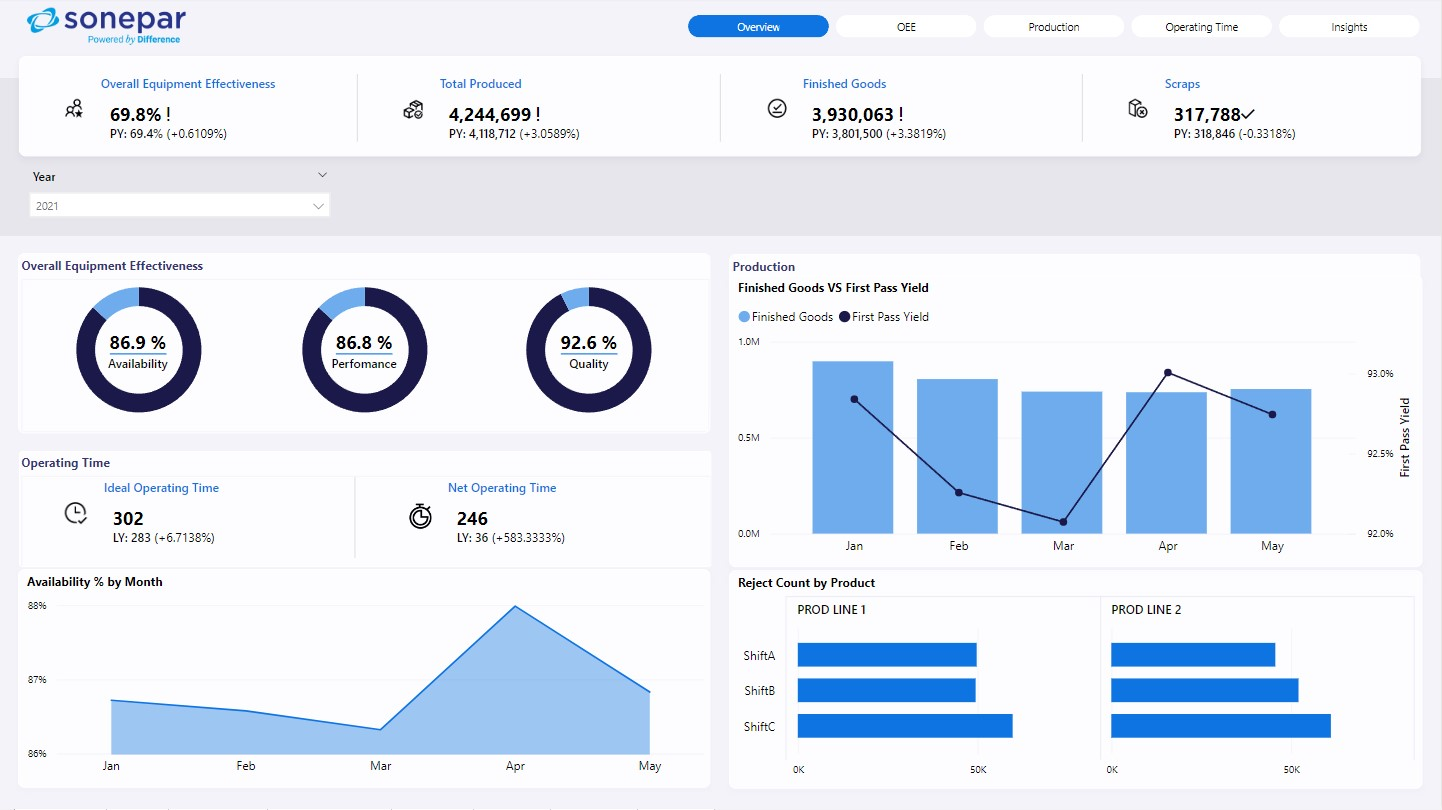

This screenshot's page, from the dashboard's own definition file:
{"tool":"powerbi","page":{"name":"Overview","canvas":[1280,720],"ordinal":0},"visuals":[{"type":"shape","box":[932.6,69,57.5,60.4],"z":0,"group":"g2"},{"type":"actionButton","title":"Background","box":[0,71.7,1280,140.4],"z":0,"group":"g1"},{"type":"slicer","fields":{"Values":["Dim_Date.Year"]},"box":[17.7,146,287,60],"z":0,"group":"g7"},{"type":"actionButton","title":"Overall Equipment Effectiveness","box":[18,227,614,160],"z":0,"group":"g6"},{"type":"actionButton","title":"Operating Time","box":[18.3,402.9,613.5,103],"z":0,"group":"g4"},{"type":"shape","box":[288.4,426.3,56.6,71.6],"z":0,"group":"g5"},{"type":"actionButton","title":"Background KPI","box":[18.4,52.7,1243.1,88.9],"z":1000,"group":"g8"},{"type":"shape","box":[611.1,69,57.5,60.4],"z":1000,"group":"g2"},{"type":"group","id":"g1","title":"Elements","box":[0,71.7,1280,140.4],"z":1000},{"type":"image","box":[54.5,440,30.3,35.8],"z":1000,"group":"g4"},{"type":"barChart","title":"Reject Count by Product","fields":{"Category":["Dim_Shift.Shift","Dim_Product.ArticleCode"],"Rows":["Dim_ProductionLine.Line"],"Y":["Fact_Production.Reject Count"]},"box":[648.3,507.9,615,193.5],"z":1000,"group":"g3"},{"type":"group","id":"g2","title":"Lines","box":[289.5,69,700.6,60.4],"z":1500,"group":"g8"},{"type":"shape","box":[289.5,69,57.5,60.4],"z":2000,"group":"g2"},{"type":"image","title":"4","box":[997.4,85.8,27,27],"z":2000,"group":"g8"},{"type":"group","id":"g3","title":"Production","box":[648,227.8,615.3,473.6],"z":2000},{"type":"actionButton","title":"Production","box":[648.3,227.8,613,160.3],"z":2000,"group":"g3"},{"type":"textbox","title":"Dona - Quality","box":[437.5,289.9,173.5,67.1],"z":2000,"group":"g6"},{"type":"image","box":[357.8,439.1,33.1,41.7],"z":2000,"group":"g4"},{"type":"image","title":"3","box":[677.2,85.7,27,27],"z":3000,"group":"g8"},{"type":"lineStackedColumnComboChart","title":"Finished Goods VS First Pass Yield","fields":{"Category":["Dim_Date.Month"],"Y2":["Fact_Production.Quality%"],"Y":["Fact_Production.Good Count"]},"box":[648,246.6,615,259],"z":3000,"group":"g3"},{"type":"group","id":"g4","title":"Operating Time","box":[17.7,402.9,614.2,298.5],"z":3000},{"type":"group","id":"g5","title":"Lines","box":[288.4,426.3,56.6,71.6],"z":3000,"group":"g4"},{"type":"image","title":"2","box":[354.5,86,27,27],"z":4000,"group":"g8"},{"type":"group","id":"g6","title":"OEE","box":[18,227,614,160.3],"z":4000},{"type":"donutChart","title":"Quality % ","fields":{"Y":["Fact_Production.Quality%","Fact_Production.%Quality Rest"]},"box":[438.7,238.6,171.8,148.8],"z":4000,"group":"g6"},{"type":"areaChart","fields":{"Category":["Dim_Date.Month"],"Y":["Fact_Production.Availability%"]},"box":[17.7,507.8,614,193.5],"z":4000,"group":"g4"},{"type":"textbox","title":"Dona - Performance","box":[237.5,289.9,174,66.2],"z":4500,"group":"g6"},{"type":"kpi","title":"Net Operating Time","fields":{"Indicator":["Fact_Production.NetdayNo"],"TrendLine":["Fact_Production.Brand"],"Goal":["Fact_Production.LostdayNo"]},"box":[393.9,426.5,224.3,69.8],"z":4500,"group":"g4"},{"type":"image","title":"1","box":[54,85.8,27,27],"z":5000,"group":"g8"},{"type":"group","id":"g7","title":"Slicers","box":[17.7,146,287,60],"z":5000},{"type":"donutChart","title":"Performance %","fields":{"Y":["Fact_Production.Performance%","Fact_Production.%Performance Rest"]},"box":[239.4,238.6,171.8,148.8],"z":5000,"group":"g6"},{"type":"kpi","title":"Ideal Operating Time","fields":{"Indicator":["Fact_Production.dayNo1"],"TrendLine":["Fact_Production.Brand"],"Goal":["Fact_Production.RealdayNo"]},"box":[88.3,426.5,217,72.5],"z":5000,"group":"g4"},{"type":"group","id":"g8","title":"KPI","box":[18.4,52.7,1243.1,88.9],"z":6000},{"type":"kpi","title":"Scraps","fields":{"Indicator":["Fact_Production.Reject Count"],"Goal":["Fact_Production.PY Reject Count"],"TrendLine":["Fact_Production.Brand"]},"box":[1029,68.4,230,60],"z":6000,"group":"g8"},{"type":"textbox","title":"Dona - Availability %","box":[37.5,289.9,173.5,62.6],"z":6000,"group":"g6"},{"type":"donutChart","title":"Availability % ","fields":{"Y":["Fact_Production.Availability%","Fact_Production.%Avaiability Rest"]},"box":[39.3,238.5,171.8,148.8],"z":6500,"group":"g6"},{"type":"pageNavigator","box":[612,15.9,651,20.9],"z":7000},{"type":"kpi","title":"Finished Goods","fields":{"Indicator":["Fact_Production.Good Count"],"Goal":["Fact_Production.PY Good Count"],"TrendLine":["Fact_Production.Brand"]},"box":[708.2,68.3,245,60],"z":7000,"group":"g8"},{"type":"image","box":[17.7,4.4,156.9,43.4],"z":7001},{"type":"kpi","title":"Total Produced","fields":{"Indicator":["Fact_Production.Total Count"],"Goal":["Fact_Production.PY Total Count"],"TrendLine":["Fact_Production.Brand"]},"box":[386,68.4,245,60],"z":8000,"group":"g8"},{"type":"kpi","title":"Overall Equipment Effectiveness","fields":{"TrendLine":["Fact_Production.Brand"],"Goal":["Fact_Production.PY OEE%"],"Indicator":["Fact_Production.OEE%"]},"box":[85.4,68.4,230,60],"z":9000,"group":"g8"}]}

Visuals, with their boxes on the page's 1280x720 design canvas (x1, y1, x2, y2). These are canvas units, not pixel positions in the 1442x810 screenshot, which may show the page scaled, cropped or inside an application window:
shape: 933, 69, 990, 129
"Background" actionButton: 0, 72, 1280, 212
slicer - Dim_Date.Year: 18, 146, 305, 206
"Overall Equipment Effectiveness" actionButton: 18, 227, 632, 387
"Operating Time" actionButton: 18, 403, 632, 506
shape: 288, 426, 345, 498
"Background KPI" actionButton: 18, 53, 1262, 142
shape: 611, 69, 669, 129
"Elements" group: 0, 72, 1280, 212
image: 54, 440, 85, 476
"Reject Count by Product" barChart: 648, 508, 1263, 701
"Lines" group: 290, 69, 990, 129
shape: 290, 69, 347, 129
"4" image: 997, 86, 1024, 113
"Production" group: 648, 228, 1263, 701
"Production" actionButton: 648, 228, 1261, 388
"Dona - Quality" textbox: 438, 290, 611, 357
image: 358, 439, 391, 481
"3" image: 677, 86, 704, 113
"Finished Goods VS First Pass Yield" lineStackedColumnComboChart: 648, 247, 1263, 506
"Operating Time" group: 18, 403, 632, 701
"Lines" group: 288, 426, 345, 498
"2" image: 354, 86, 382, 113
"OEE" group: 18, 227, 632, 387
"Quality % " donutChart: 439, 239, 610, 387
areaChart - Dim_Date.Month x Fact_Production.Availability%: 18, 508, 632, 701
"Dona - Performance" textbox: 238, 290, 412, 356
"Net Operating Time" kpi: 394, 426, 618, 496
"1" image: 54, 86, 81, 113
"Slicers" group: 18, 146, 305, 206
"Performance %" donutChart: 239, 239, 411, 387
"Ideal Operating Time" kpi: 88, 426, 305, 499
"KPI" group: 18, 53, 1262, 142
"Scraps" kpi: 1029, 68, 1259, 128
"Dona - Availability %" textbox: 38, 290, 211, 352
"Availability % " donutChart: 39, 238, 211, 387
pageNavigator: 612, 16, 1263, 37
"Finished Goods" kpi: 708, 68, 953, 128
image: 18, 4, 175, 48
"Total Produced" kpi: 386, 68, 631, 128
"Overall Equipment Effectiveness" kpi: 85, 68, 315, 128
